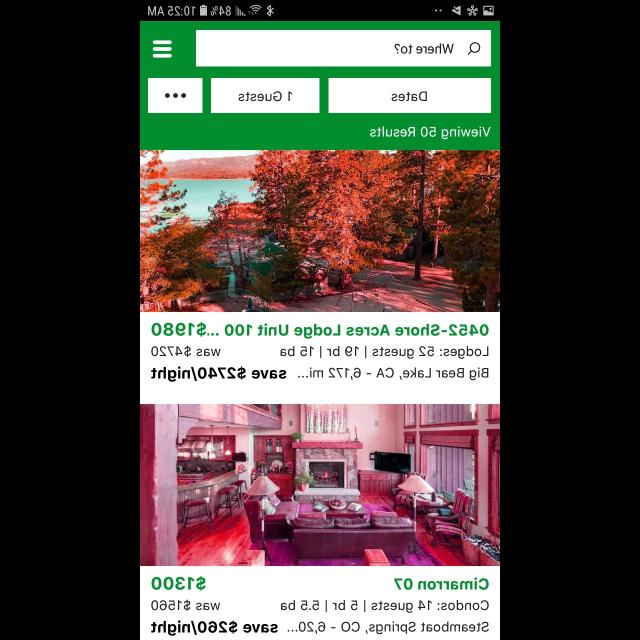icon: (152, 40, 172, 58), (468, 42, 480, 56)
image: (140, 404, 500, 566), (140, 151, 500, 313)
input: (196, 31, 492, 67)
text: (151, 620, 489, 636), (150, 366, 488, 382), (152, 322, 488, 338), (280, 346, 488, 359), (281, 600, 489, 612), (370, 126, 490, 140), (394, 578, 488, 590), (151, 575, 205, 591), (152, 600, 220, 612), (152, 346, 220, 358), (394, 44, 454, 54)
textbutton: (328, 78, 490, 114), (211, 78, 319, 114), (148, 78, 204, 114)
uppertaskbar: (140, 1, 500, 22)
